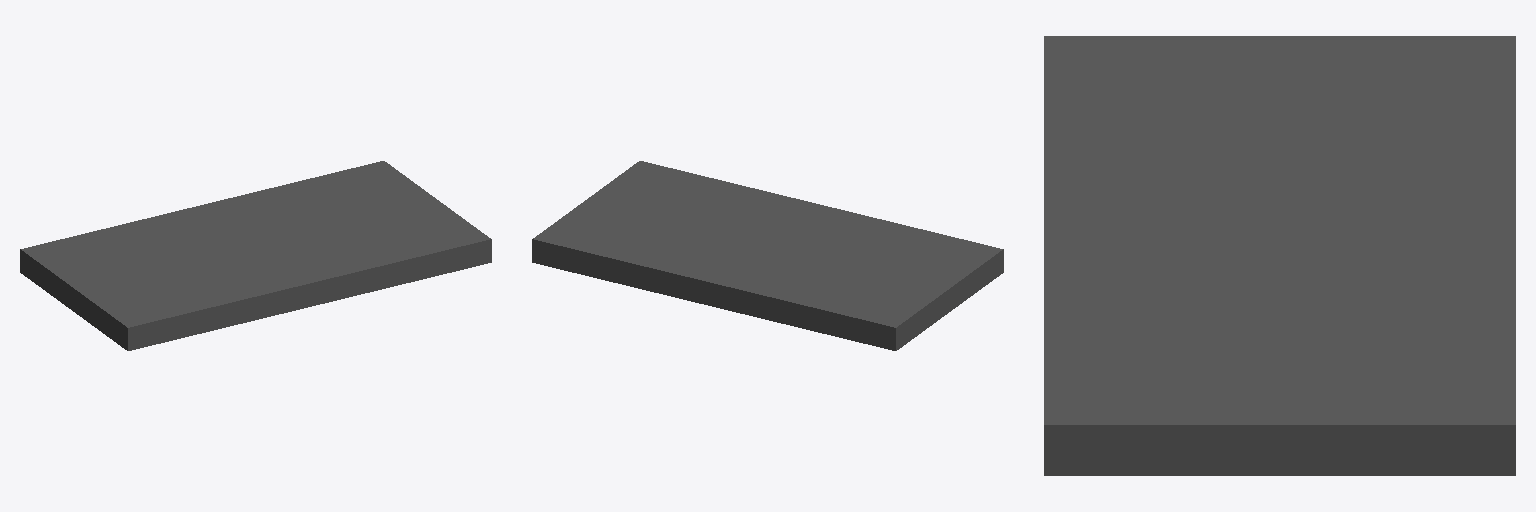
URDF robot description (sink_counter_left):
<?xml version="1.0"?>
<robot name="sink_counter_left">
    <material name="color">
        <color rgba="0.4 0.4 0.4 1"/>
    </material>
    <link name="base">
        <collision name="box_collision">
        <geometry>
            <box size="0.807 0.413 0.05"/>
        </geometry>
        </collision>
        <visual name="box_visual">
    			<origin xyz="0 0 0" rpy="0 0 0"/>

        <geometry>
            <box size="0.807 0.413 0.05"/>
        </geometry>
        <material name="color"/>
        </visual>
        <inertial>
			<mass value="0.3"/>
			<inertia ixx="0.6" ixy="0.0" ixz="0.0" iyy="0.5" iyz="-0.0" izz="0.08"/>
		</inertial>
    </link>
</robot>

--- Render facts (derived) ---
3 views of the same robot in one strip: view 1: azimuth 30°, elevation 25°; view 2: azimuth 150°, elevation 25°; view 3: azimuth 270°, elevation 25° (orthographic).
Robot: sink_counter_left — 1 links, 0 joints (none); root link base; default pose: all joints at 0.
Links seen in each view (by area): view 1: base; view 2: base; view 3: base.
Boxes of the visible links, left/top/right/bottom form: base: left=20, top=161, right=491, bottom=350; base: left=532, top=161, right=1003, bottom=350; base: left=1044, top=36, right=1515, bottom=475.
Size in the robot's own frame: 0.807 by 0.413 by 0.05 metres.
Geometry: primitives only (box / cylinder / sphere), no mesh files.